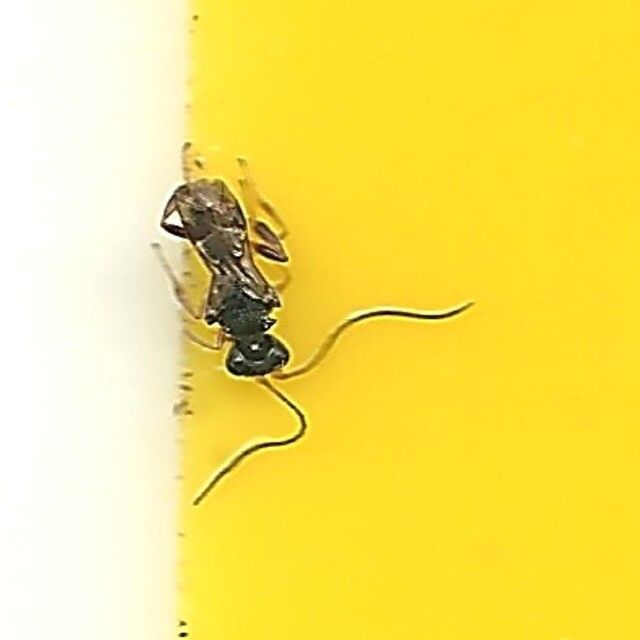Hymenoptera: (162, 146, 478, 494)
